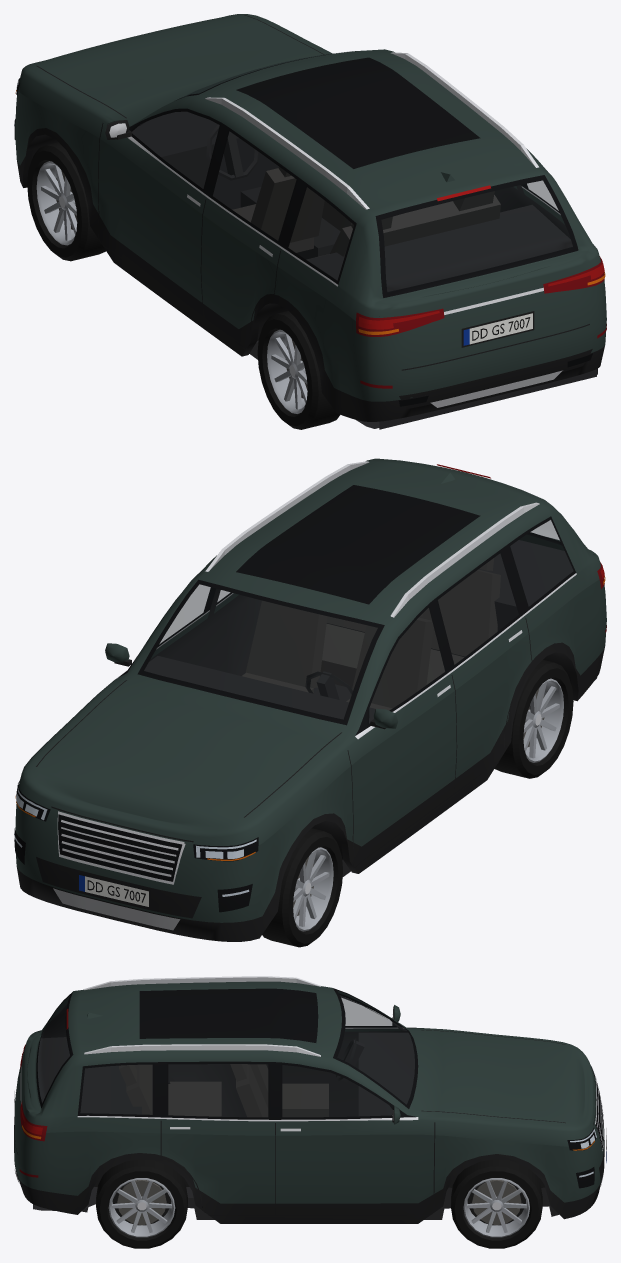
The model's file is suv_gross.glb.
The picture shows the model from 3 angles, top to bottom: view 1: azimuth 30°, elevation 25°; view 2: azimuth 150°, elevation 25°; view 3: azimuth 270°, elevation 25°; orthographic projection. The views are drawn at different scales.
Visible parts, largest first — view 1: Body, Interior, Glass, Tire_RL, Tire_FL, Lights, Rim_FL, Rim_RL; view 2: Body, Glass, Interior, Tire_FL, Tire_RL, Rim_FL, Rim_RL, Lights; view 3: Body, Glass, Interior, Tire_FR, Tire_RR, Rim_FR, Rim_RR, Lights.
Boxes of the visible parts, box(x1,y1,x2,y2) form: Body: box(14, 14, 606, 421); Interior: box(132, 111, 597, 429); Glass: box(132, 54, 572, 292); Tire_RL: box(257, 311, 339, 429); Tire_FL: box(27, 142, 105, 261); Lights: box(14, 79, 606, 388); Rim_FL: box(36, 161, 77, 245); Rim_RL: box(267, 329, 307, 413); Body: box(14, 458, 606, 941); Glass: box(144, 520, 572, 722); Interior: box(144, 540, 597, 723); Tire_FL: box(262, 828, 342, 947); Tire_RL: box(494, 660, 573, 778); Rim_FL: box(293, 847, 333, 931); Rim_RL: box(523, 678, 563, 762); Lights: box(14, 464, 606, 896); Body: box(14, 976, 606, 1223); Glass: box(38, 991, 414, 1116); Interior: box(33, 995, 414, 1210); Tire_FR: box(451, 1159, 542, 1248); Tire_RR: box(96, 1159, 187, 1248); Rim_FR: box(463, 1178, 529, 1237); Rim_RR: box(108, 1178, 175, 1237); Lights: box(19, 1008, 596, 1177).
Bounding box in the file's own units: 2.19 × 1.76 × 4.98.
